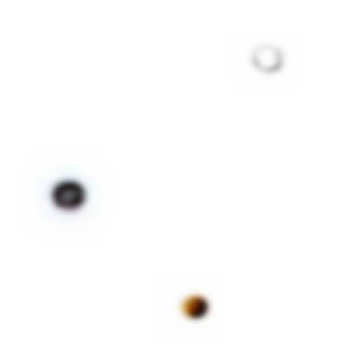abnormal: (240, 38, 298, 81)
cancer: (38, 161, 104, 220)
normal: (156, 283, 220, 332)
